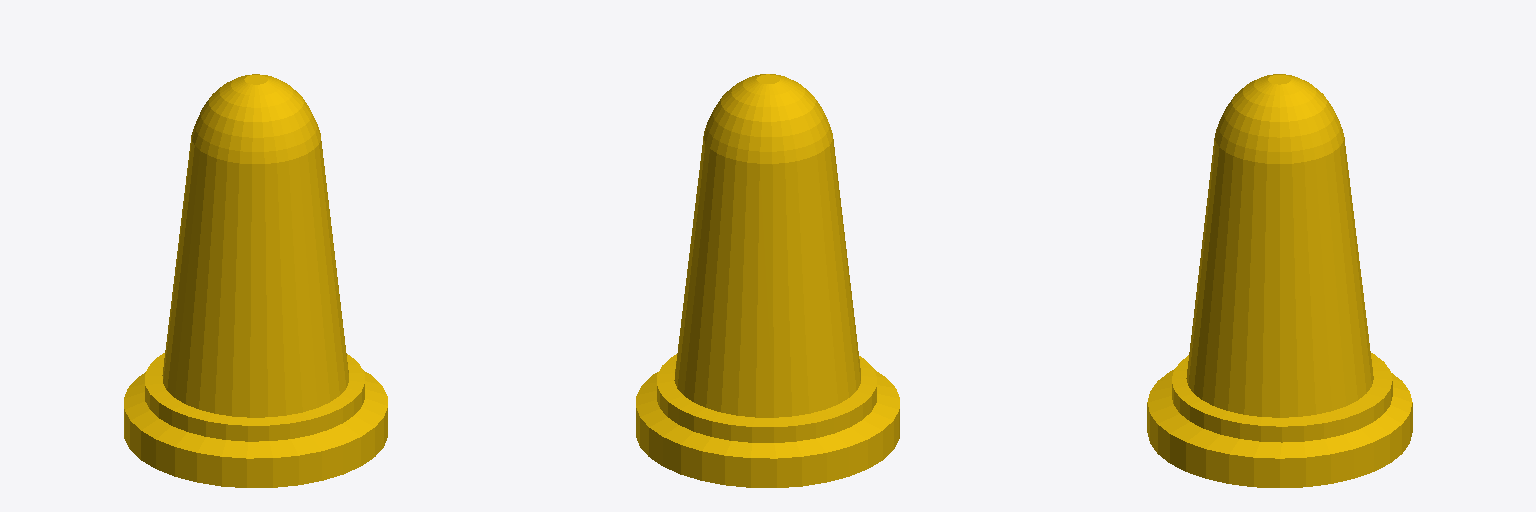
3 renders of one model, left to right at view 1: azimuth 30°, elevation 25°; view 2: azimuth 150°, elevation 25°; view 3: azimuth 270°, elevation 25°, orthographic.
Parts seen in each view (by area): view 1: Cylinder; view 2: Cylinder; view 3: Cylinder.
Boxes of the visible parts, x1=… form: Cylinder: x1=124, y1=74, x2=387, y2=487; Cylinder: x1=636, y1=74, x2=899, y2=487; Cylinder: x1=1147, y1=74, x2=1412, y2=487.
Size of the model in its own units: 0.1556 by 0.2286 by 0.1556.
1 materials, 1 textured.